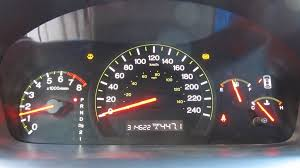Digital_Meter: (124, 119, 188, 133)
